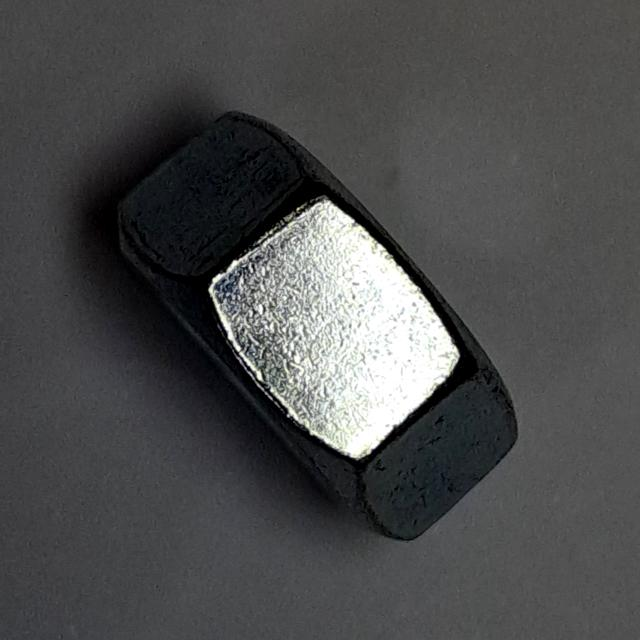Side_Excellent: (107, 96, 532, 554)
